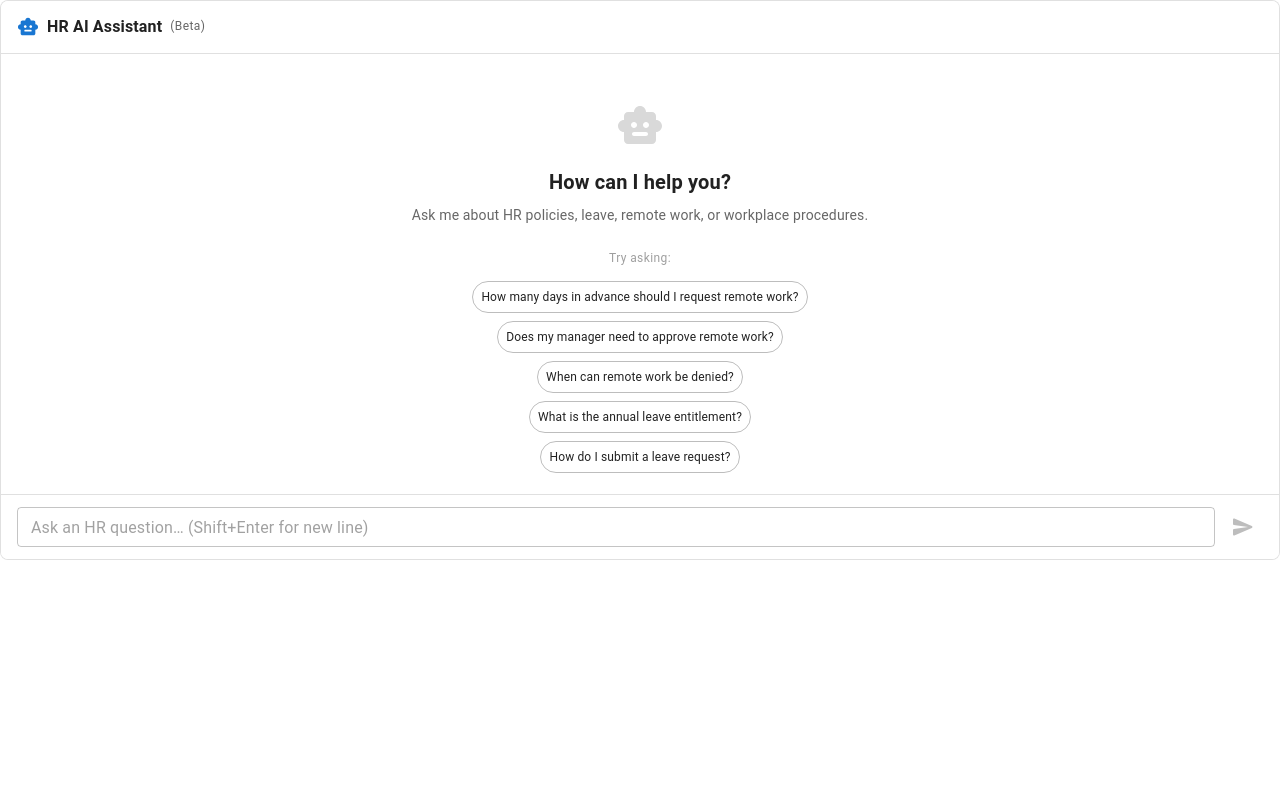
it: AiAssistantChat › Loading state › disables send button while loading
Type "Test" into the text box named "message input" at (616, 527), box x1=31 y1=516 x2=1201 y2=538
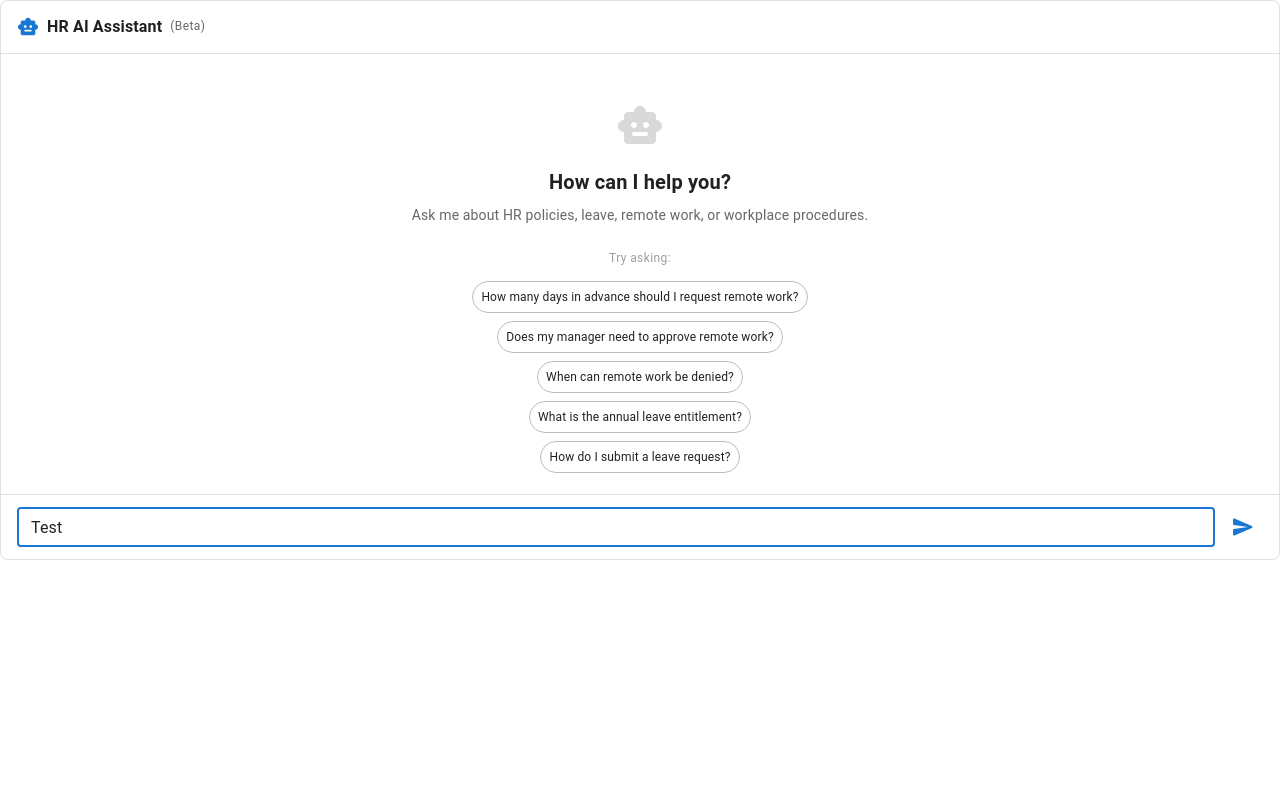
Click the button named "send message" at (1243, 527), box x1=1223 y1=507 x2=1263 y2=547
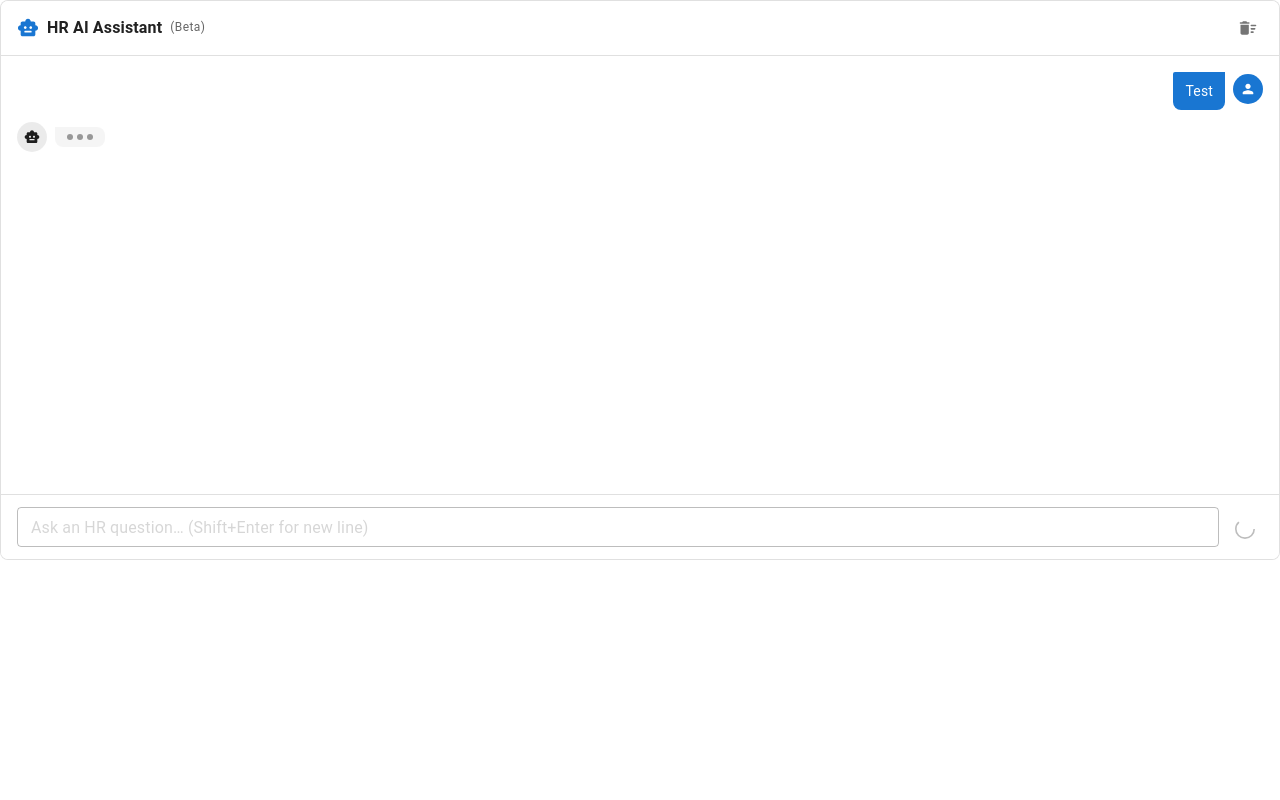
Expected: the button named "send message" is disabled, x1=1227 y1=511 x2=1263 y2=547
